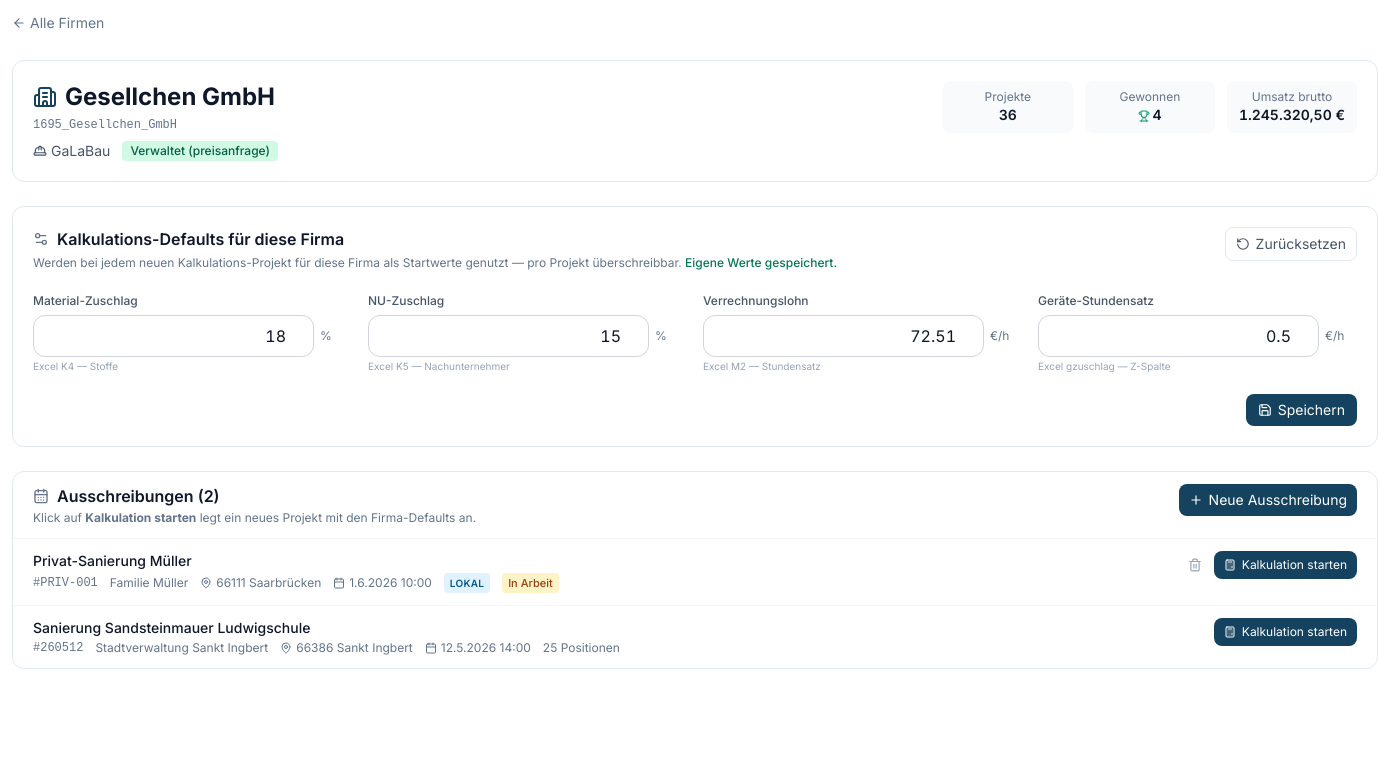
Test: Firma.tsx — Round 11 local Ausschreibungen › clicking the status badge swaps to a dropdown
Check: the text "Privat-Sanierung Müller" is shown, box [33,552,192,569]
What coordinates should you click on to do the following:
click the button with test id "auschreibung-status-badge"
I would click on:
 (530, 583)
Its box is [502,573,559,593].
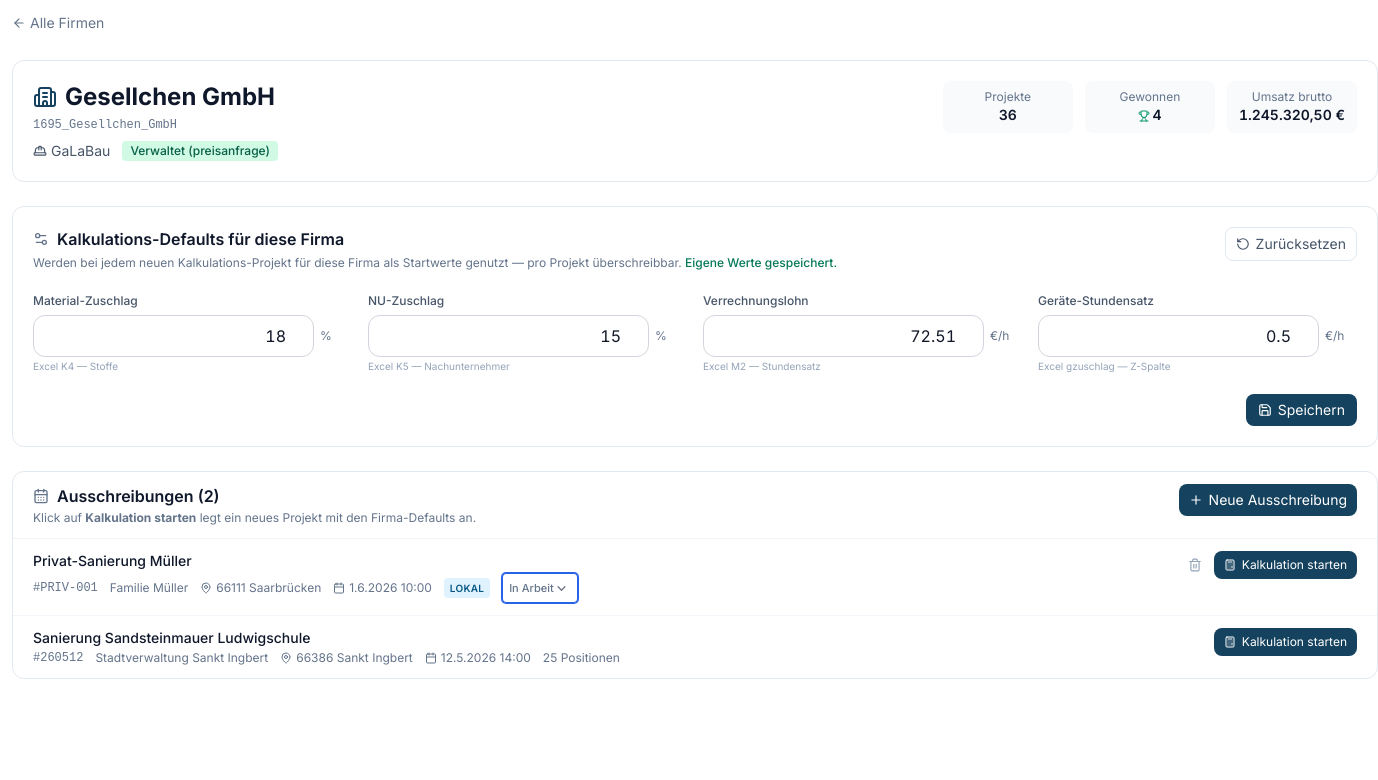
Check: the dropdown with test id "auschreibung-status-select" is shown, box [502,573,578,603]
